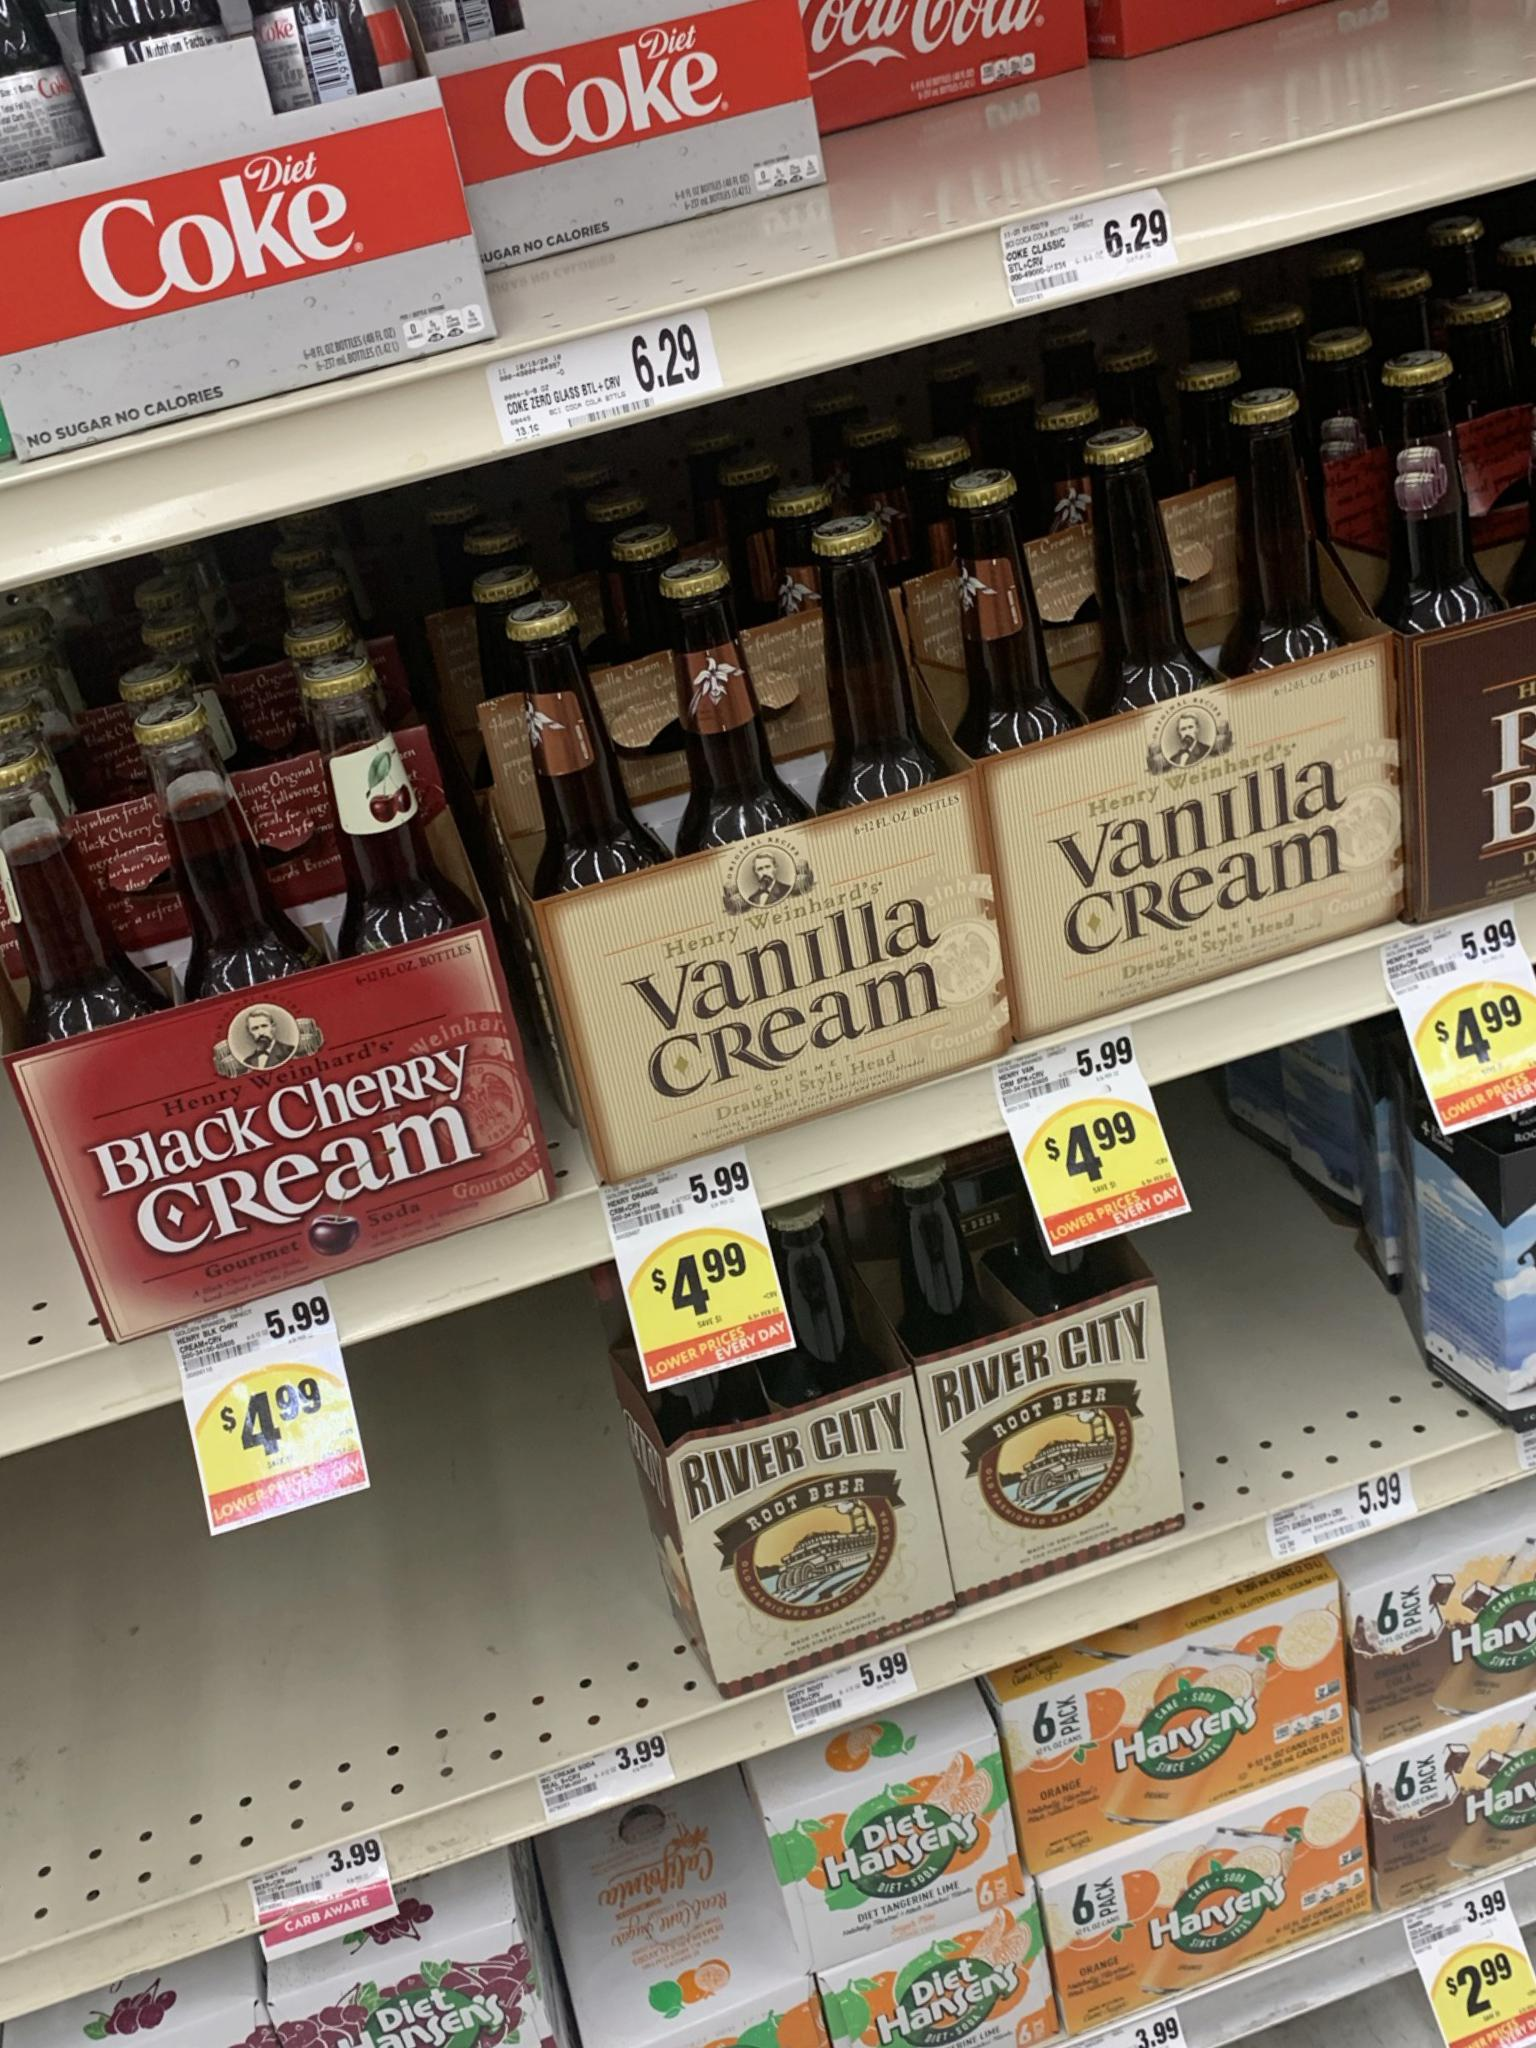box: (799, 1756, 1000, 1900), (1071, 1664, 1347, 1764), (1094, 1853, 1350, 1951)
